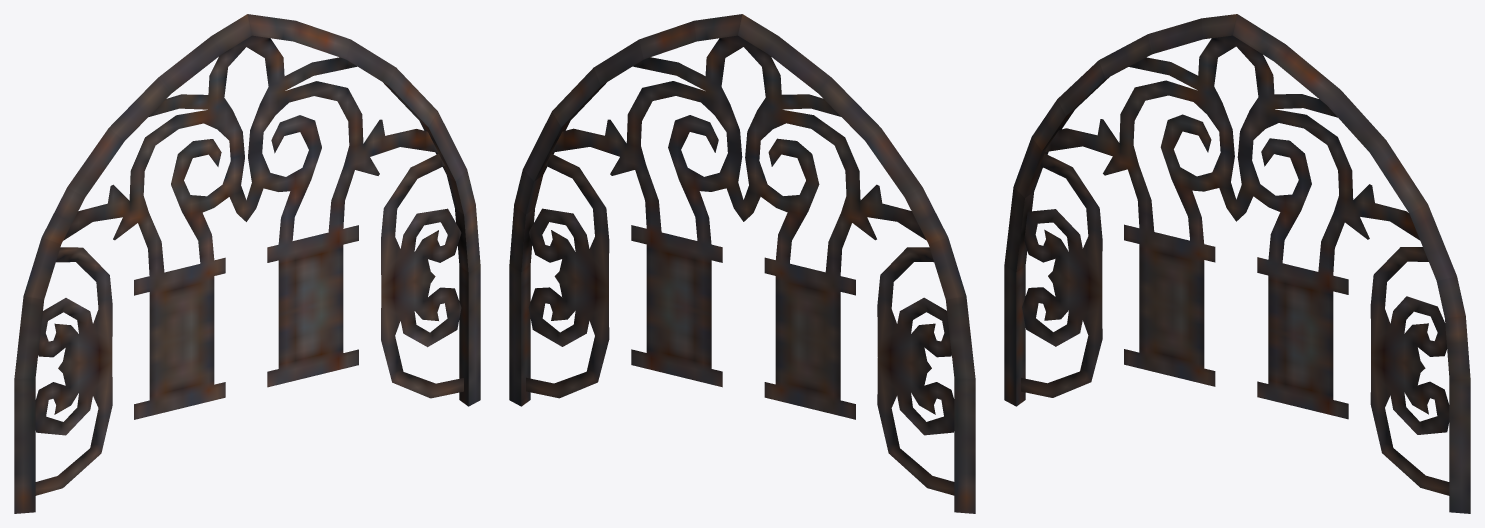
Rendered from SM_Plains_CastleArch_Iron_01.FBX.
3 views of the same model, side by side, from view 1: azimuth 30°, elevation 25°; view 2: azimuth 150°, elevation 25°; view 3: azimuth 330°, elevation 25° (orthographic).
Visible parts, largest first — view 1: SM_Plains_CastleArch_Iron_01; view 2: SM_Plains_CastleArch_Iron_01; view 3: SM_Plains_CastleArch_Iron_01.
Boxes of the visible parts, box(x1,y1,x2,y2) form: SM_Plains_CastleArch_Iron_01: box(14, 14, 480, 513); SM_Plains_CastleArch_Iron_01: box(509, 14, 975, 513); SM_Plains_CastleArch_Iron_01: box(1004, 14, 1470, 513).
Size of the model in its own units: 63.44 by 57.62 by 2.16.
